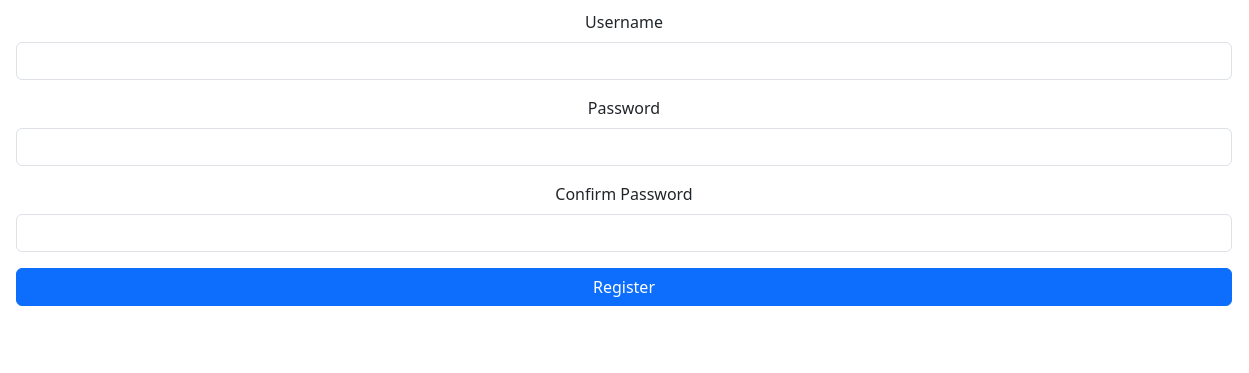
Test: RegisterForm › shows validation errors for empty fields
Click the button "Register": [624, 287] box x1=16 y1=268 x2=1232 y2=306
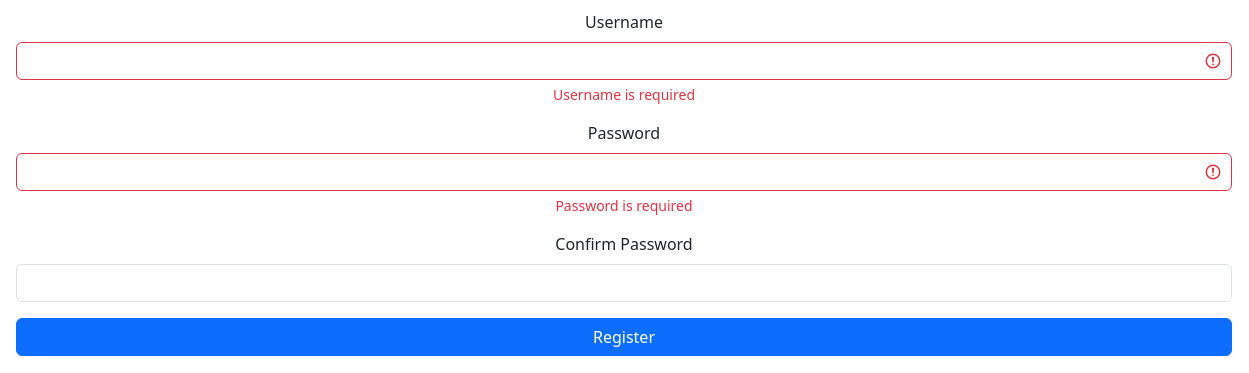
Check: the text "Username is required" is shown, box x1=553 y1=85 x2=695 y2=104
Check: the text "Password is required" is shown, box x1=555 y1=196 x2=693 y2=215
